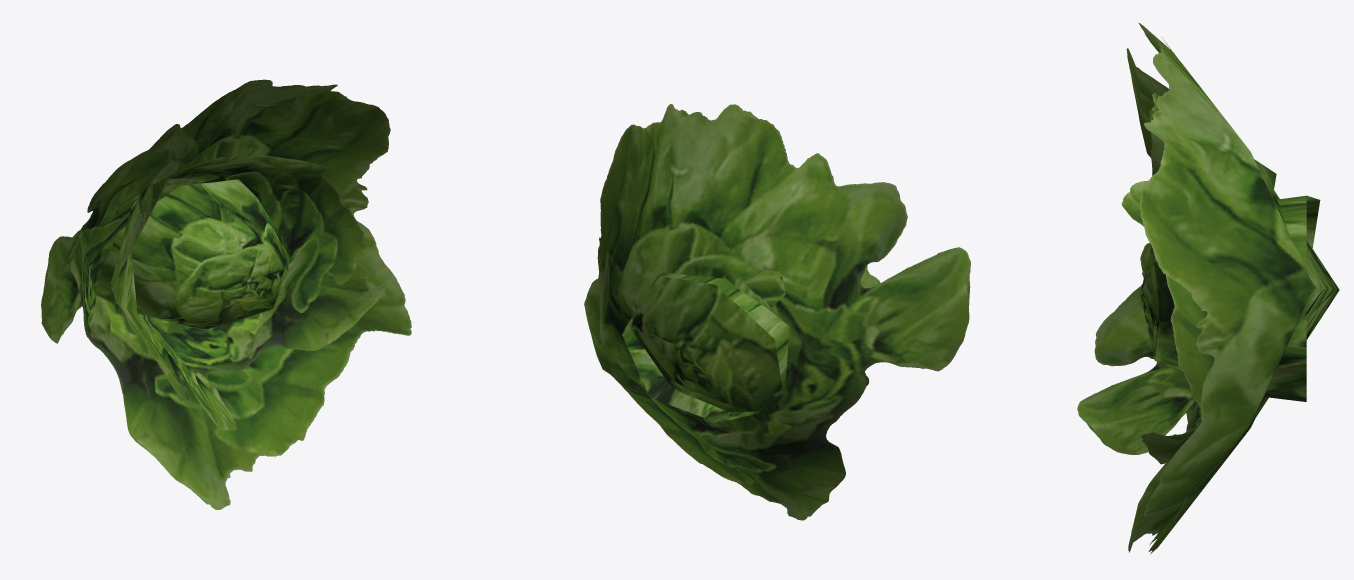
File: nt_hydro_cabbage_seedling_LOD0.obj
The picture shows the model from 3 angles, left to right: view 1: azimuth 30°, elevation 25°; view 2: azimuth 150°, elevation 25°; view 3: azimuth 270°, elevation 25°; orthographic projection. The views are drawn at different scales.
Visible parts, largest first — view 1: mtl_nt_hydro_cabbage_seedling; view 2: mtl_nt_hydro_cabbage_seedling; view 3: mtl_nt_hydro_cabbage_seedling.
Boxes of the visible parts, x1=… form: mtl_nt_hydro_cabbage_seedling: x1=41, y1=79, x2=411, y2=509; mtl_nt_hydro_cabbage_seedling: x1=584, y1=104, x2=970, y2=520; mtl_nt_hydro_cabbage_seedling: x1=1077, y1=22, x2=1339, y2=554.
Size of the model in its own units: 43.8 by 43.8 by 17.63.
